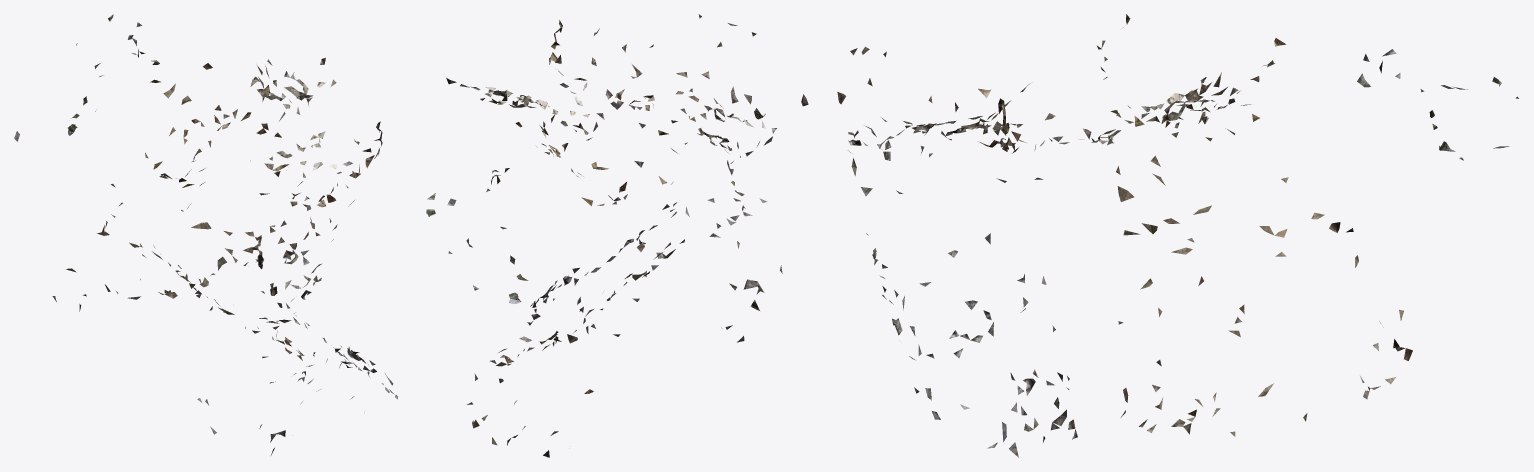
3 renders of one model, left to right at view 1: azimuth 30°, elevation 25°; view 2: azimuth 150°, elevation 25°; view 3: azimuth 270°, elevation 25°, orthographic. The views are drawn at different scales.
Size of the model in its own units: 2.6 by 3.37 by 5.93.
Materials: 1 (1 with a texture image).
